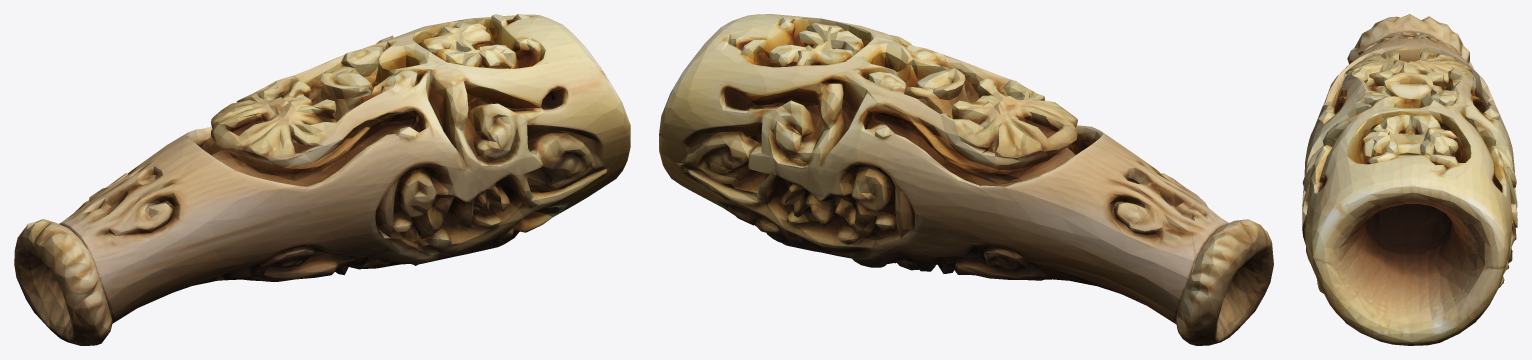
The model's file is bone-whistle-3d.jpeg.glb.
3 views of the same model, side by side, from view 1: azimuth 30°, elevation 25°; view 2: azimuth 150°, elevation 25°; view 3: azimuth 270°, elevation 25° (orthographic). The views are drawn at different scales.
Parts seen in each view (by area): view 1: world; view 2: world; view 3: world.
Part boxes in pixels (x1,y1,x2,y2): world: (14,14,630,345); world: (659,14,1273,345); world: (1302,14,1517,345).
Size of the model in its own units: 1 by 0.3576 by 0.3478.
1 material, 1 textured.
